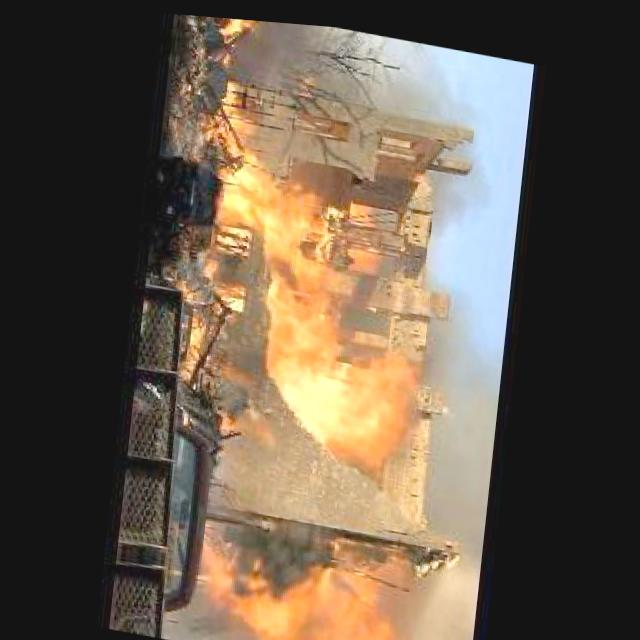helmet: (169, 78, 460, 640)
